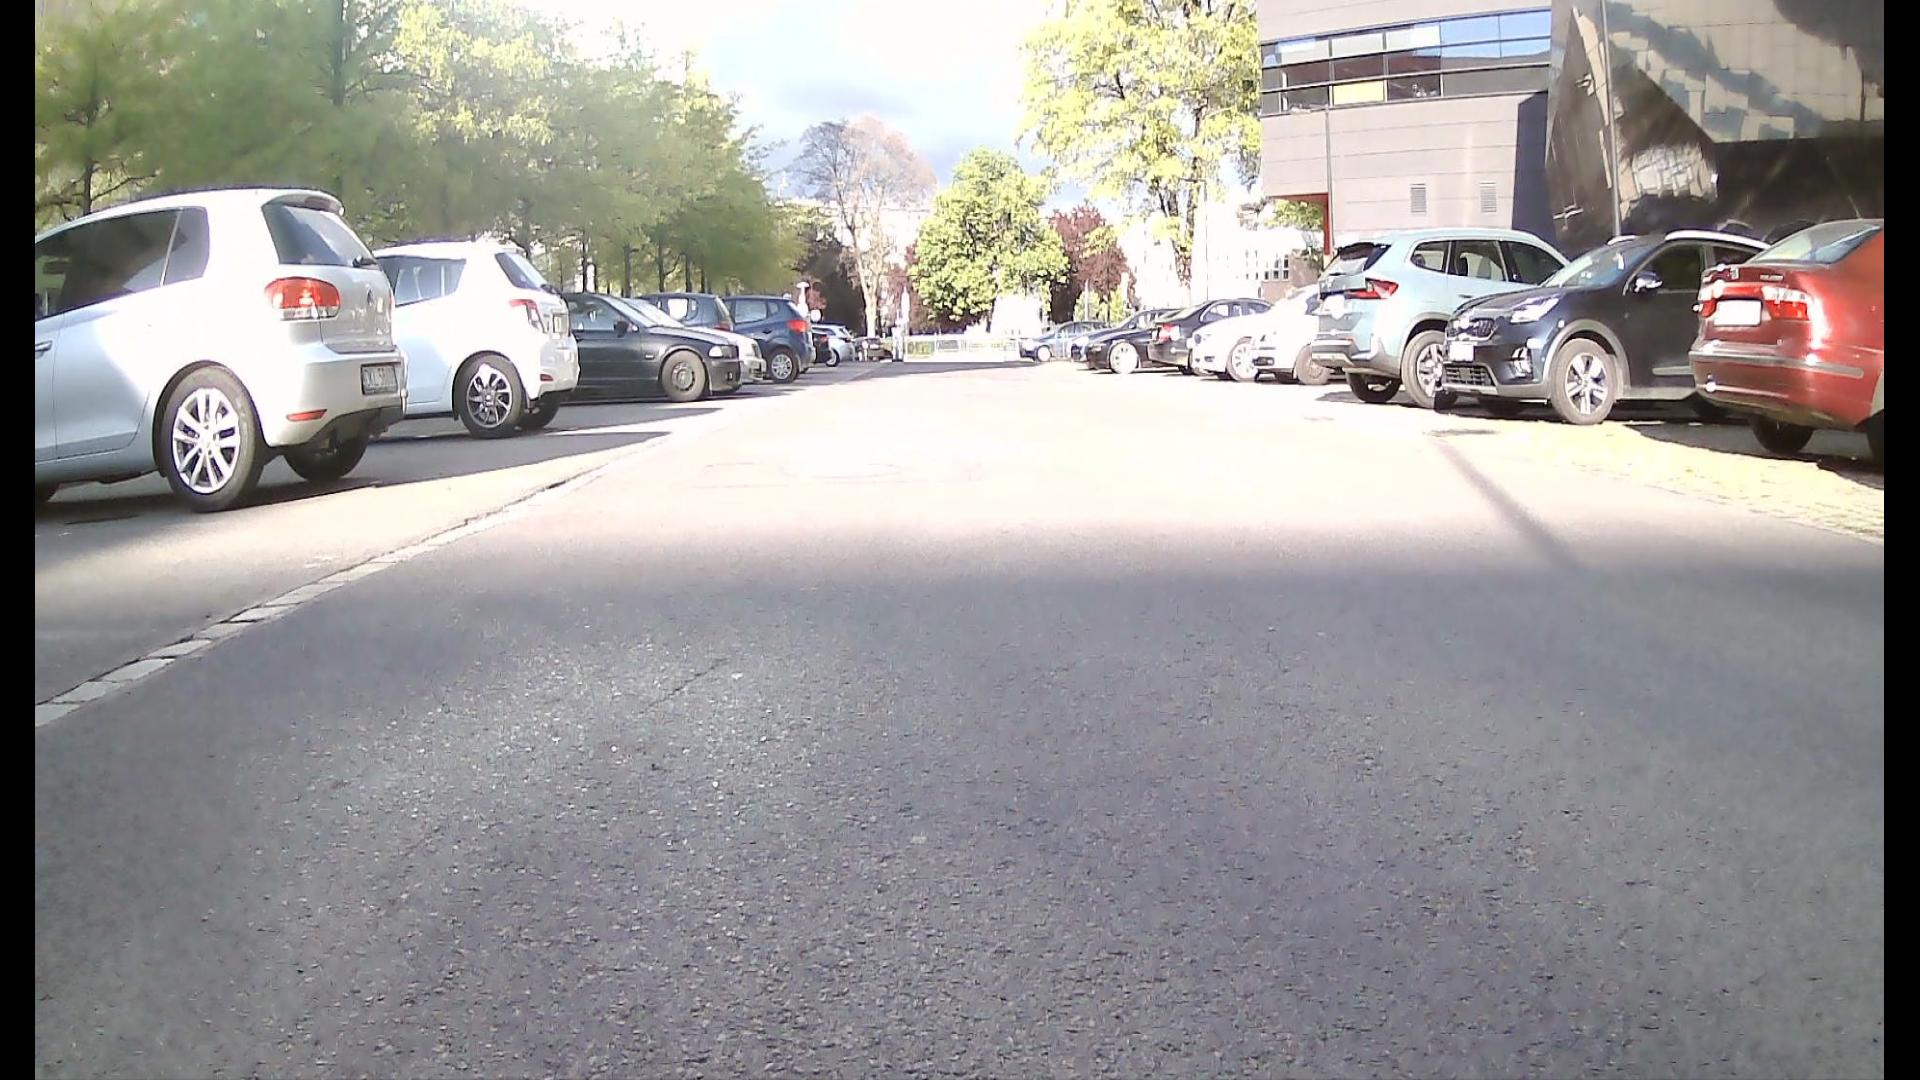car: (36, 88, 411, 571), (1675, 204, 1884, 471)
